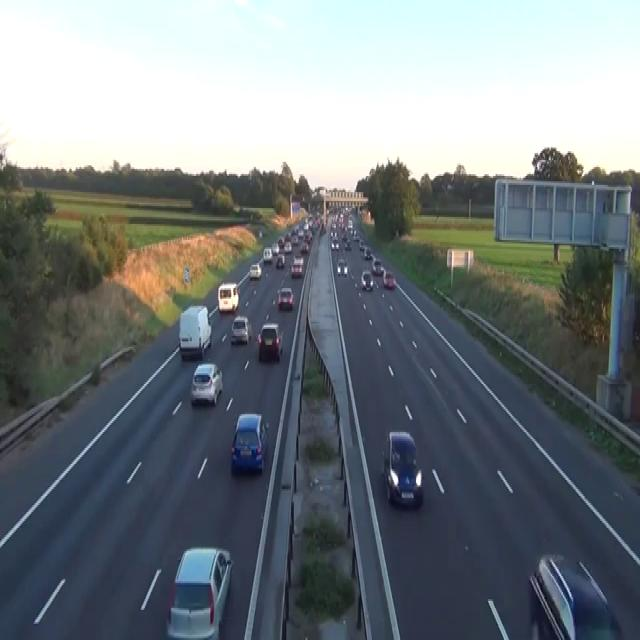Car: (528, 551, 622, 638), (166, 546, 233, 638), (382, 430, 423, 507), (230, 412, 268, 474), (190, 363, 223, 405), (257, 322, 283, 361), (230, 315, 252, 343), (277, 286, 294, 310), (290, 256, 303, 277), (360, 270, 373, 290), (382, 270, 395, 288), (336, 258, 347, 276), (249, 263, 261, 279), (371, 258, 382, 274), (262, 247, 272, 261), (276, 254, 285, 268), (363, 246, 372, 260), (284, 240, 292, 252), (271, 242, 279, 254), (331, 238, 339, 249), (277, 235, 284, 247), (300, 242, 308, 252), (330, 228, 338, 238), (351, 229, 358, 240), (358, 238, 365, 249), (347, 218, 353, 228), (258, 256, 263, 268), (345, 240, 351, 249), (341, 231, 347, 240), (284, 233, 290, 242), (258, 228, 262, 236)
Truck: (178, 304, 211, 359), (217, 281, 239, 313)
